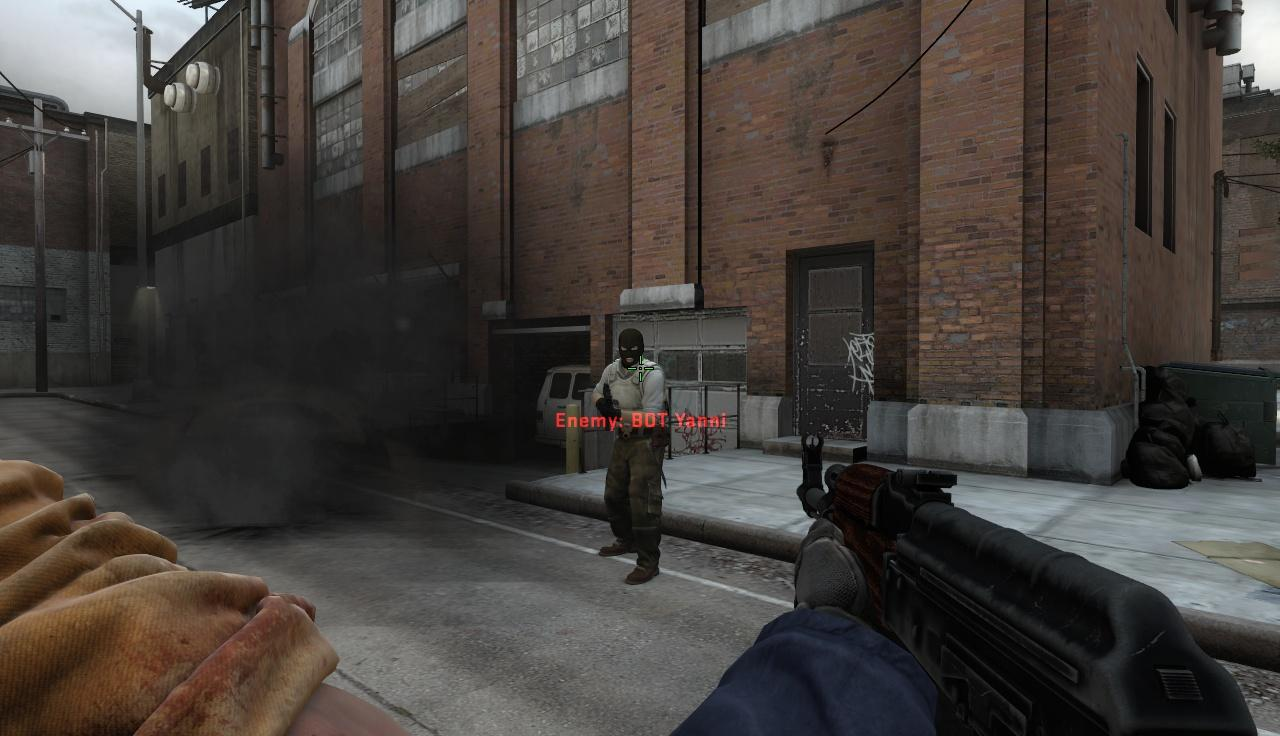rifle: (799, 433, 1277, 732)
tt: (592, 324, 672, 582)
tthead: (619, 328, 646, 367)
